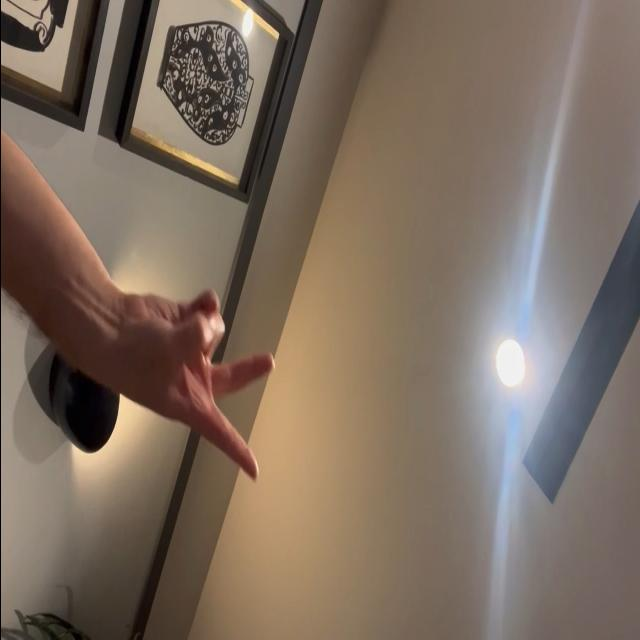Scissors: (116, 286, 276, 483)
